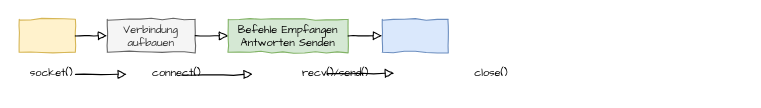
The diagram is 761 pixels wide and 108 high, and some of its shapes have lost their labels. Each missing label, with the box of its shape:
Socket Erzeugen: (18, 18, 75, 52)
Sockets Schließen: (381, 18, 448, 52)
